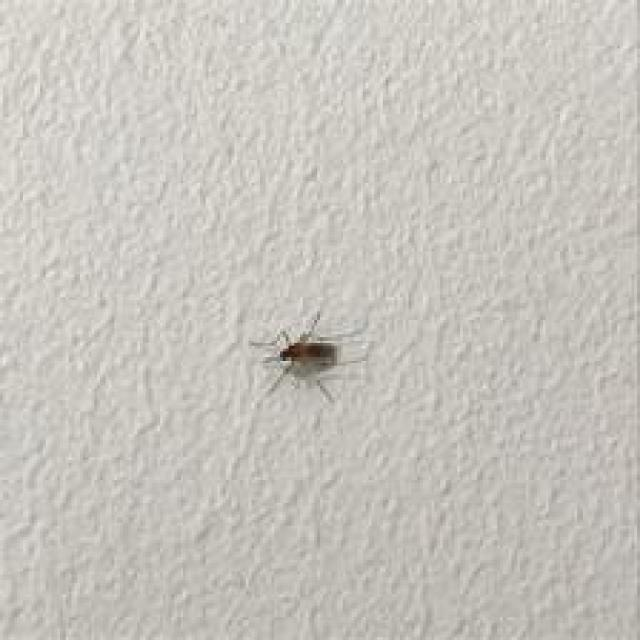Culex: (248, 308, 372, 406)
